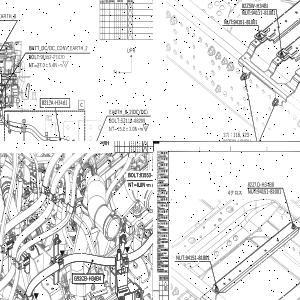PartNumber: (241, 2, 268, 10), (248, 180, 274, 188), (120, 117, 146, 124), (185, 254, 210, 261), (74, 276, 102, 282), (40, 54, 66, 60), (251, 10, 276, 16), (233, 19, 258, 25), (257, 189, 281, 195), (42, 100, 68, 105), (139, 171, 153, 178), (222, 138, 250, 141)
